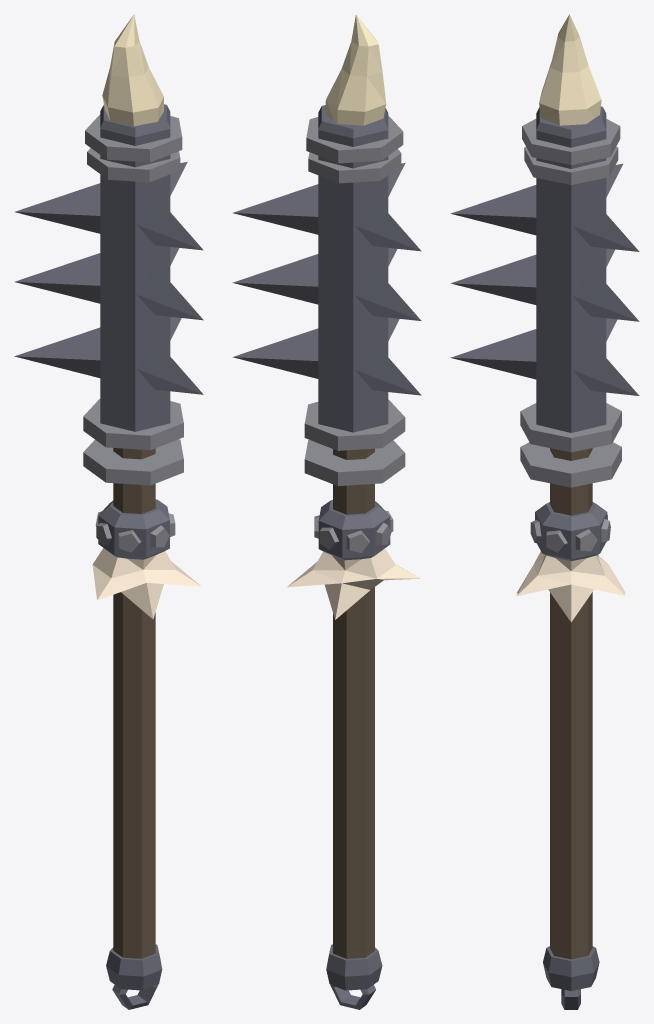
File: _MACE.fbx
3 views of the same model, side by side, from view 1: azimuth 30°, elevation 25°; view 2: azimuth 150°, elevation 25°; view 3: azimuth 270°, elevation 25° (orthographic).
Visible parts, largest first — view 1: MACE; view 2: MACE; view 3: MACE.
Boxes of the visible parts, x1=… form: MACE: x1=14, y1=14, x2=203, y2=1009; MACE: x1=232, y1=14, x2=421, y2=1009; MACE: x1=450, y1=14, x2=639, y2=1009.
Bounding box in the file's own units: 36.48 × 190 × 32.99.
